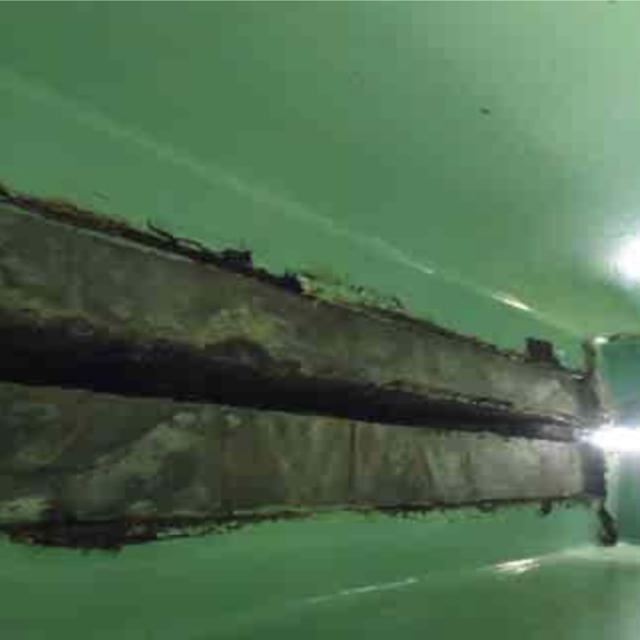corrosion: (13, 182, 437, 317)
